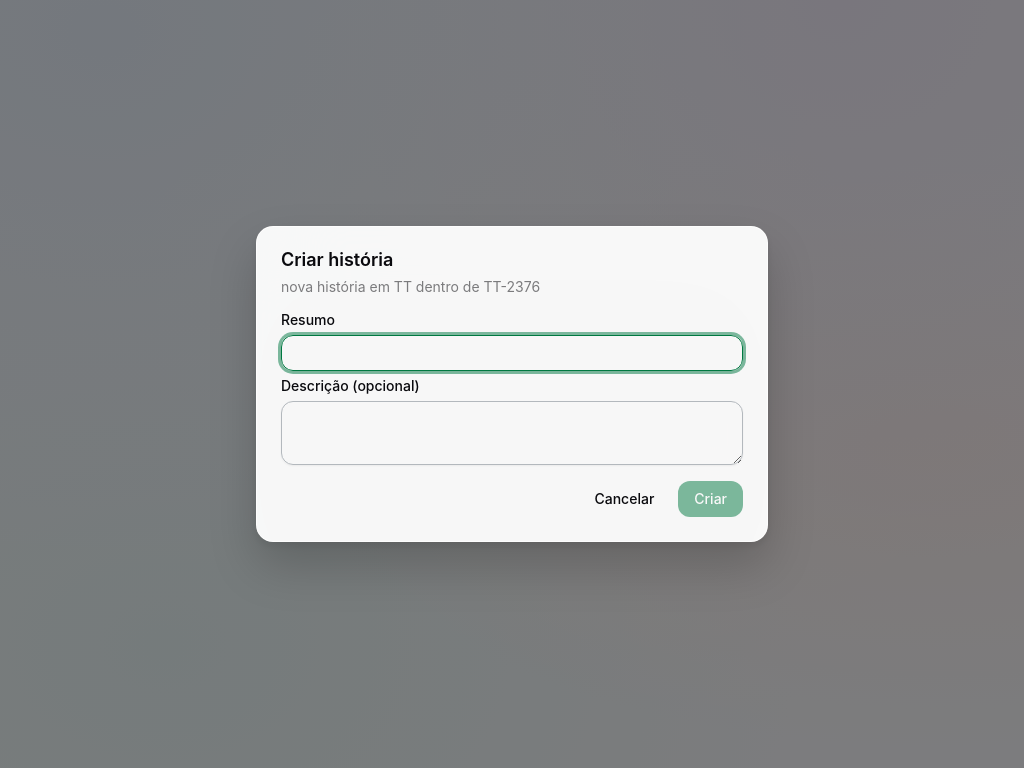
Test case: create story dialog › creates the story and links to it
Expected: the text "nova história em TT dentro de TT-2376" is shown, [281, 278, 540, 295]
Expected: the button "Criar" is disabled, [678, 481, 743, 517]
Type "  Nova história " into the field labelled "Resumo" at (512, 353), box [281, 335, 743, 371]
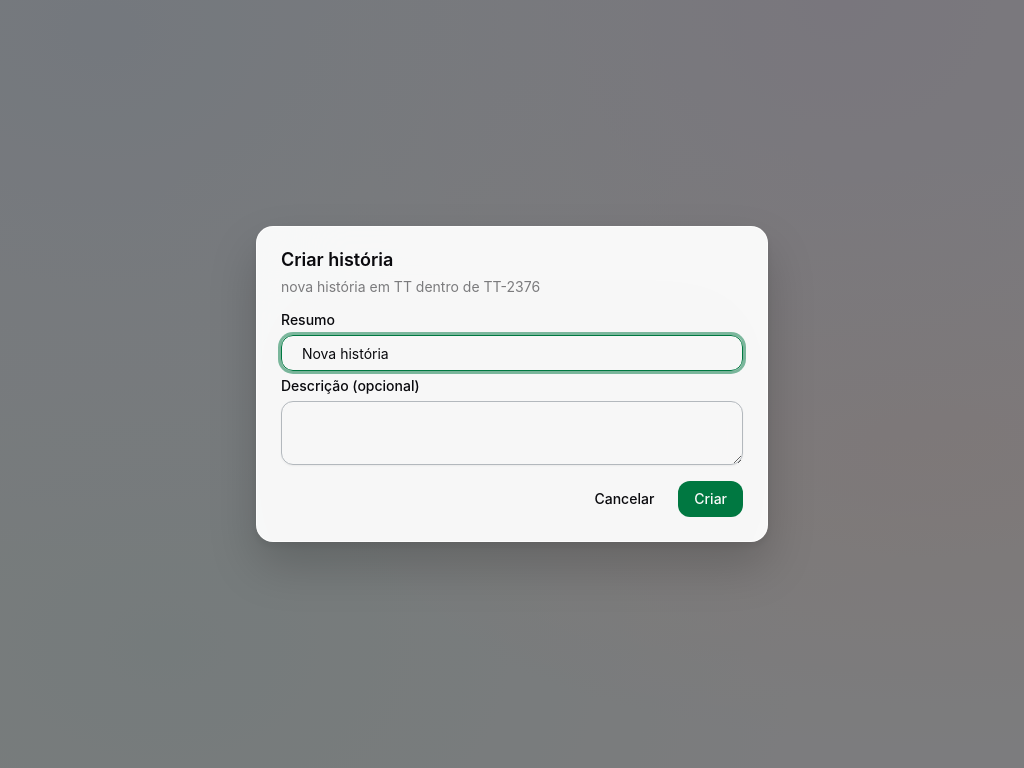
Type "detalhe" into the text box labelled "Descrição (opcional)" at (512, 433), box [281, 401, 743, 465]
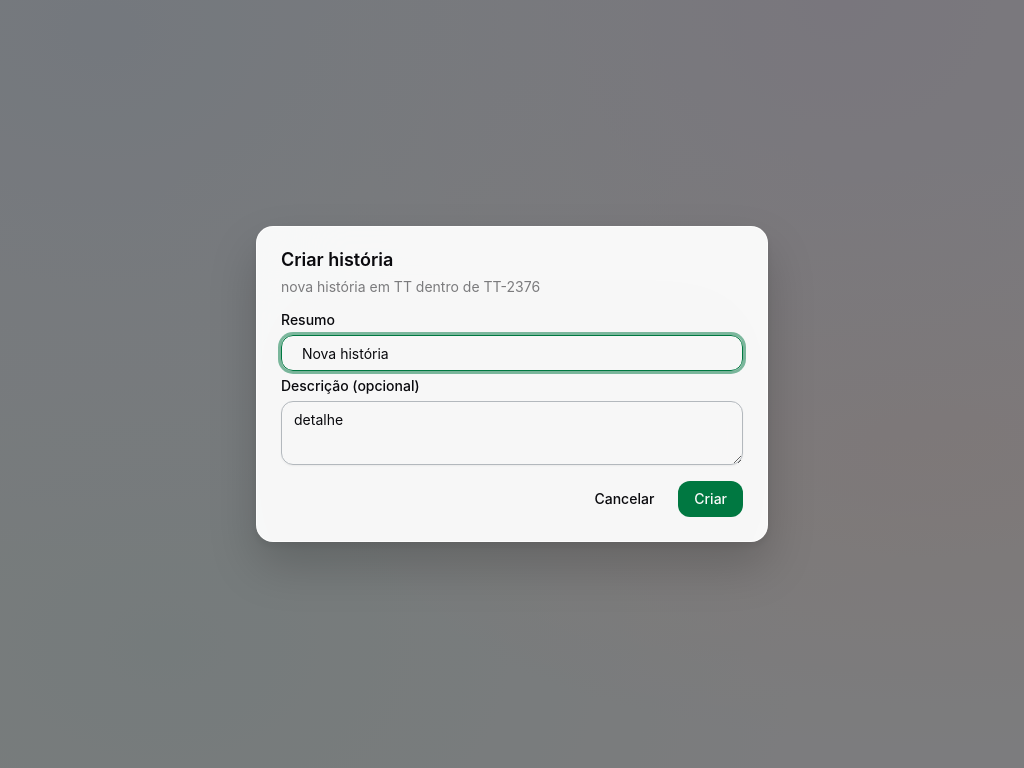
Click the button "Criar" at (711, 499), box [678, 481, 743, 517]
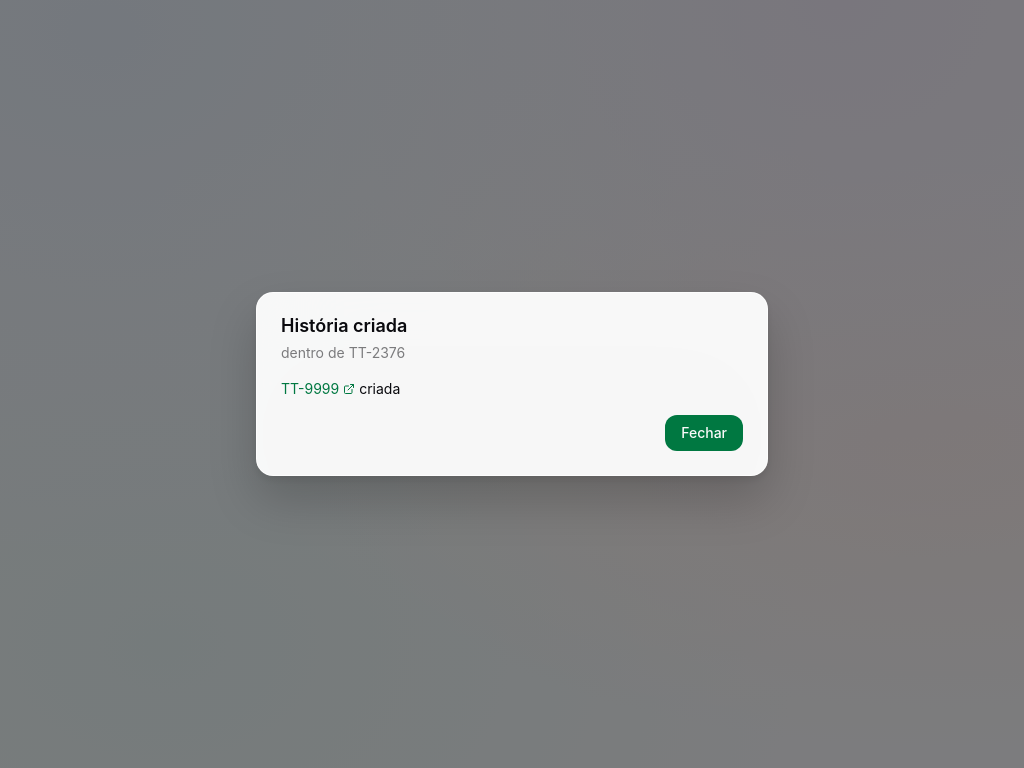
Expected: the message reads "TT-9999 criada", [281, 380, 400, 397]
